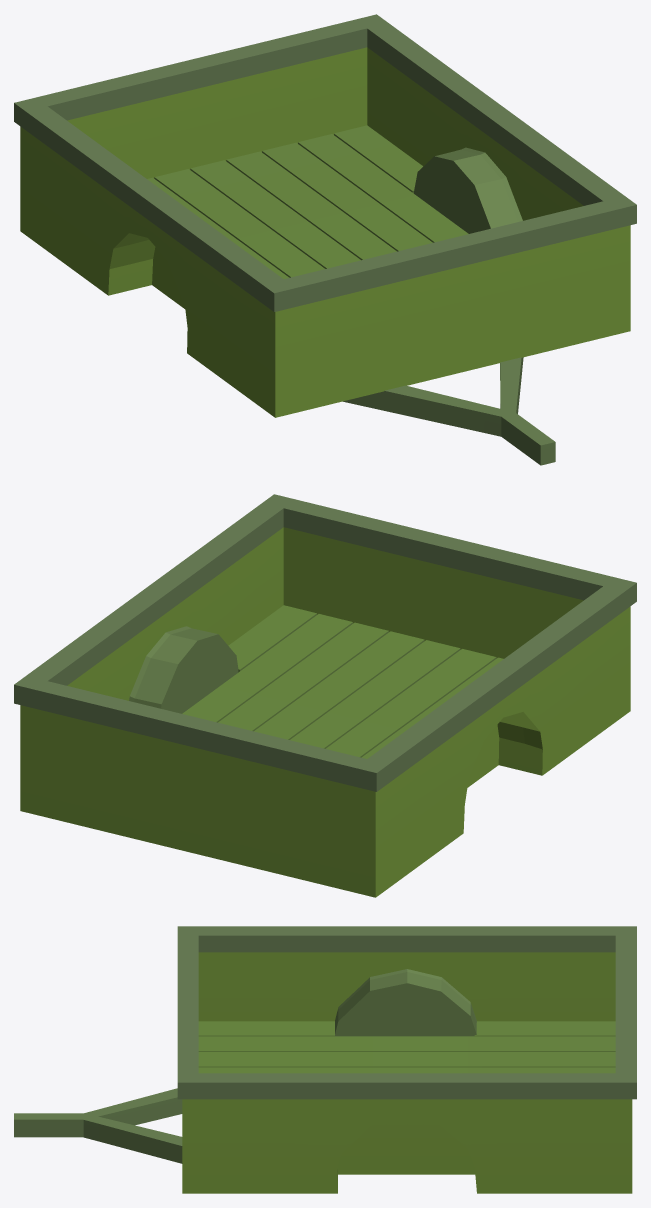
The model's file is CarTrailer_01.fbx.
The picture shows the model from 3 angles, top to bottom: view 1: azimuth 30°, elevation 25°; view 2: azimuth 150°, elevation 25°; view 3: azimuth 270°, elevation 25°; orthographic projection. The views are drawn at different scales.
Parts seen in each view (by area): view 1: CarTrailer_01; view 2: CarTrailer_01; view 3: CarTrailer_01.
Part boxes in pixels (bbox=[...]): CarTrailer_01: bbox=[14, 14, 636, 465]; CarTrailer_01: bbox=[14, 494, 636, 897]; CarTrailer_01: bbox=[14, 926, 636, 1193].
Size of the model in its own units: 1.64 by 0.6363 by 2.77.
